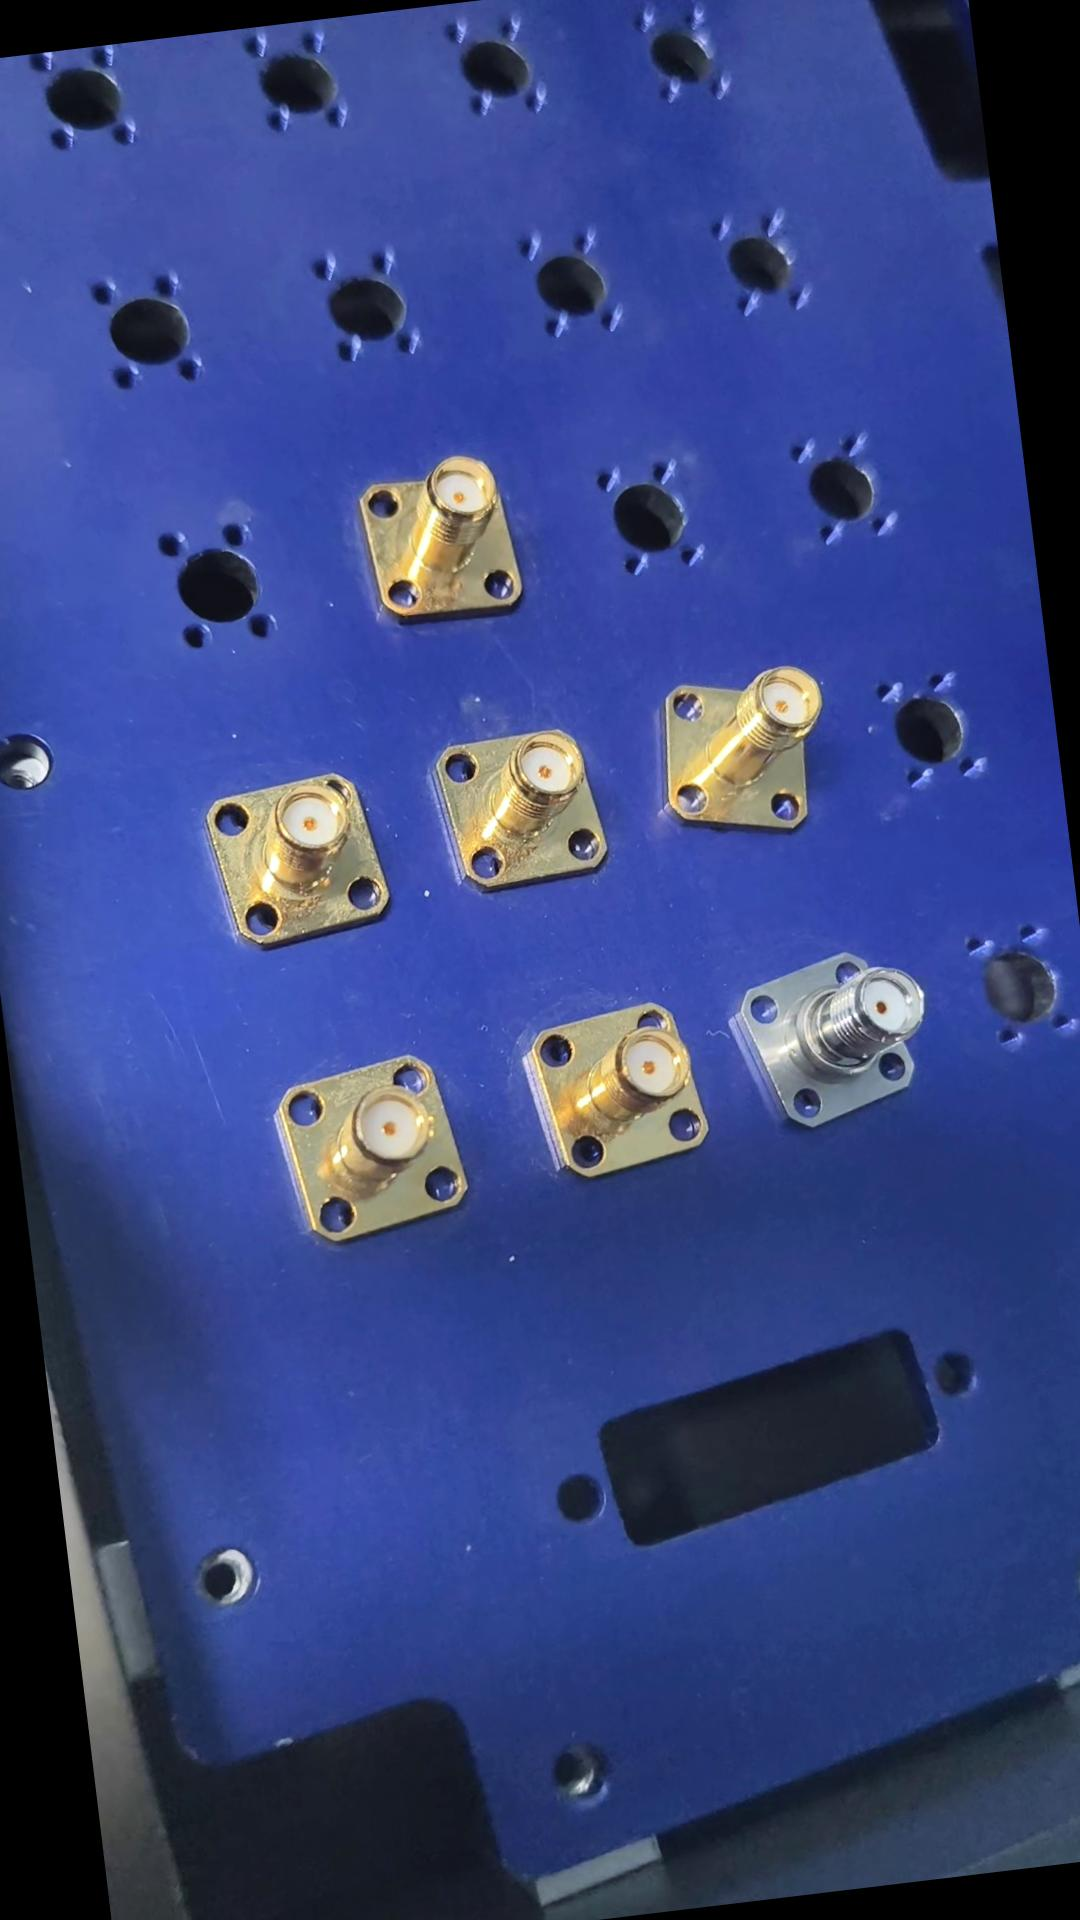SMA: (270, 1046, 483, 1257), (727, 942, 942, 1138), (522, 989, 717, 1187), (199, 761, 398, 948), (650, 662, 843, 847), (425, 719, 615, 899), (349, 448, 535, 628)
